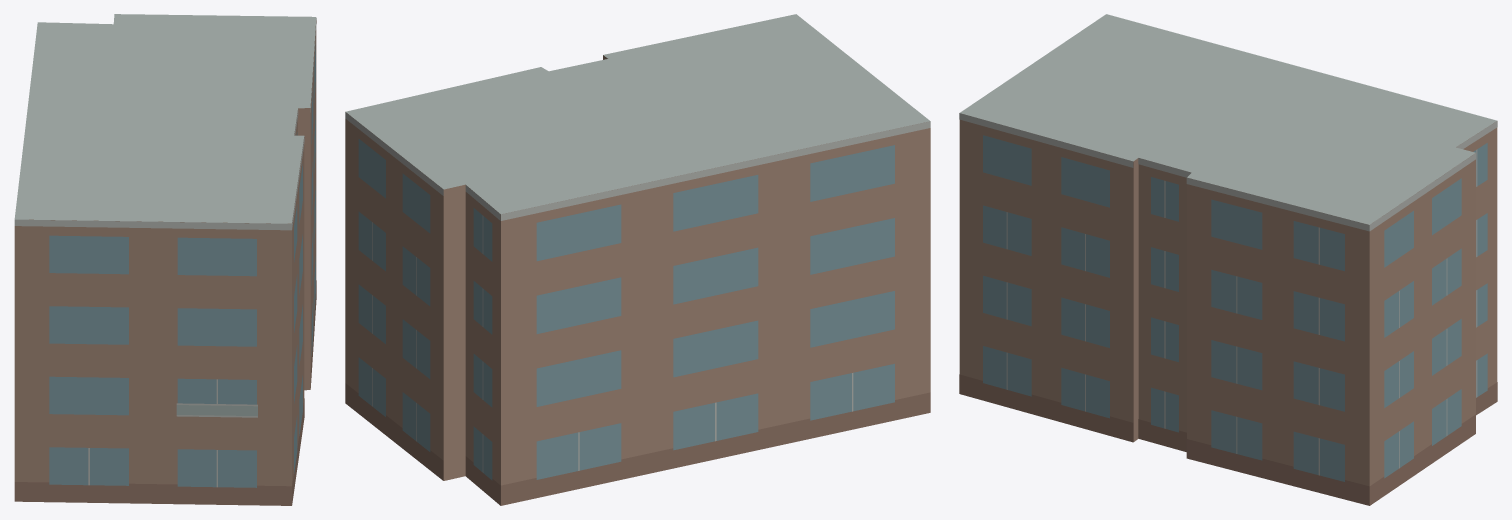
The model's file is survey-upis-32707432.glb.
The picture shows the model from 3 angles, left to right: view 1: azimuth 30°, elevation 25°; view 2: azimuth 150°, elevation 25°; view 3: azimuth 270°, elevation 25°; orthographic projection. The views are drawn at different scales.
Visible parts, largest first — view 1: survey-upis-32707432.tmp; view 2: survey-upis-32707432.tmp; view 3: survey-upis-32707432.tmp.
Part boxes in pixels (x1,y1,x2,y2): survey-upis-32707432.tmp: (14, 14, 316, 505); survey-upis-32707432.tmp: (345, 14, 930, 505); survey-upis-32707432.tmp: (959, 14, 1497, 505).
Size of the model in its own units: 16.91 by 10.5 by 18.23.
